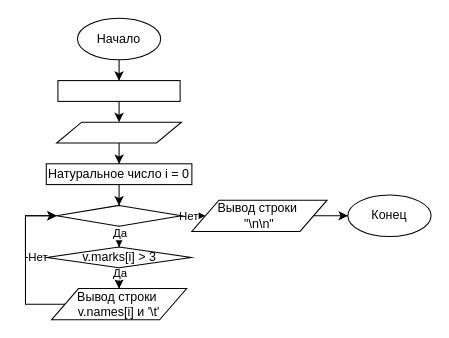
Some shapes in this 449 by 338 pixel diagram are drawn without their labels. The shapes that lost their labels are listed below. From the top down, each one's box as (x1, y1, x2, y2) in pixels, then its label:
(57, 80, 180, 101): const Vedomost& v
(56, 121, 181, 143): Получение v
(56, 204, 181, 226): i < v.quantity
